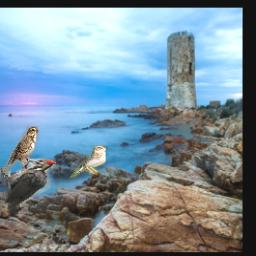Sparrow: (3, 126, 39, 174), (68, 145, 106, 178)
Woodpecker: (0, 160, 56, 218)
